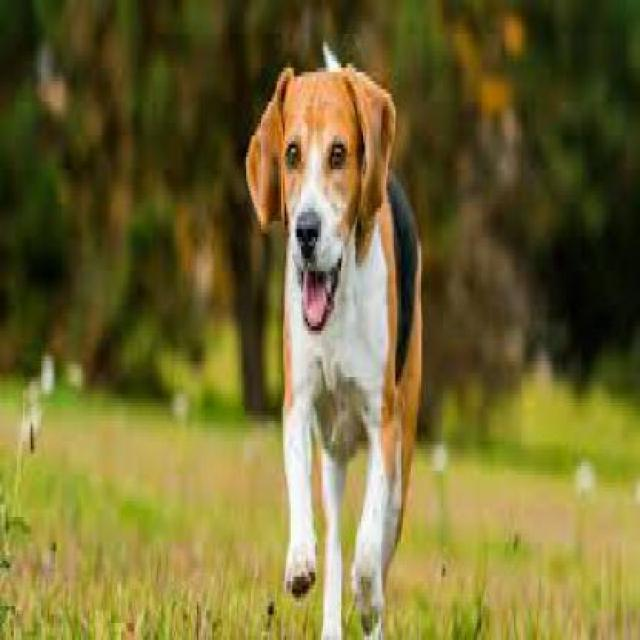Dog: (245, 34, 429, 635)
